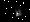person: (16, 8, 24, 18)
